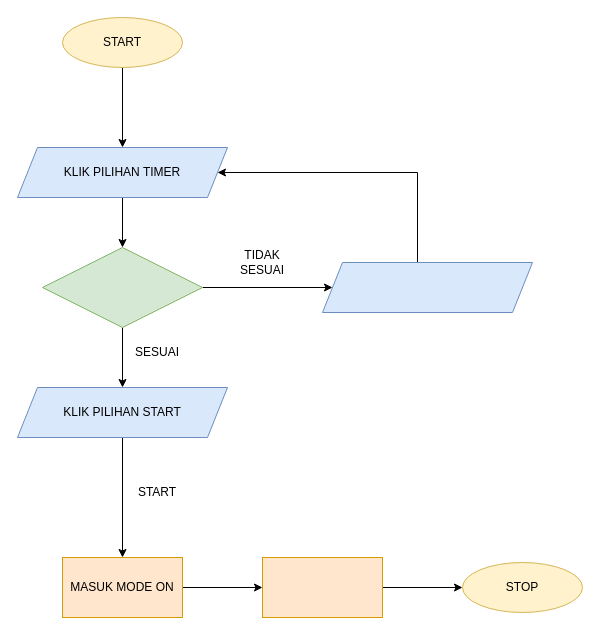
This 600x635 diagram has some shape labels left out. The shapes that lost their labels are listed below. From the top down, each one's centre as x and y in pixels, then its label:
At (x=122, y=287): "PEMERIKSAAN TIMER".
At (x=427, y=287): "KLIK PILIHAN STOP/RESET".
At (x=322, y=587): "TIMER BERJALAN HINGGA BERHENTI".
